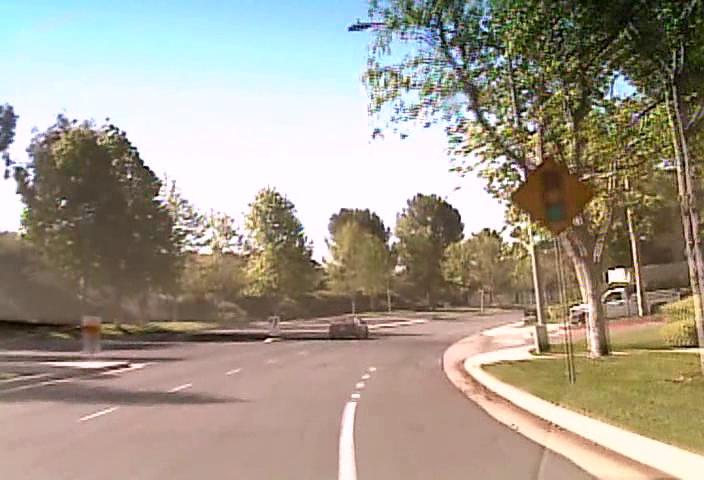signalAhead: (510, 155, 595, 235)
